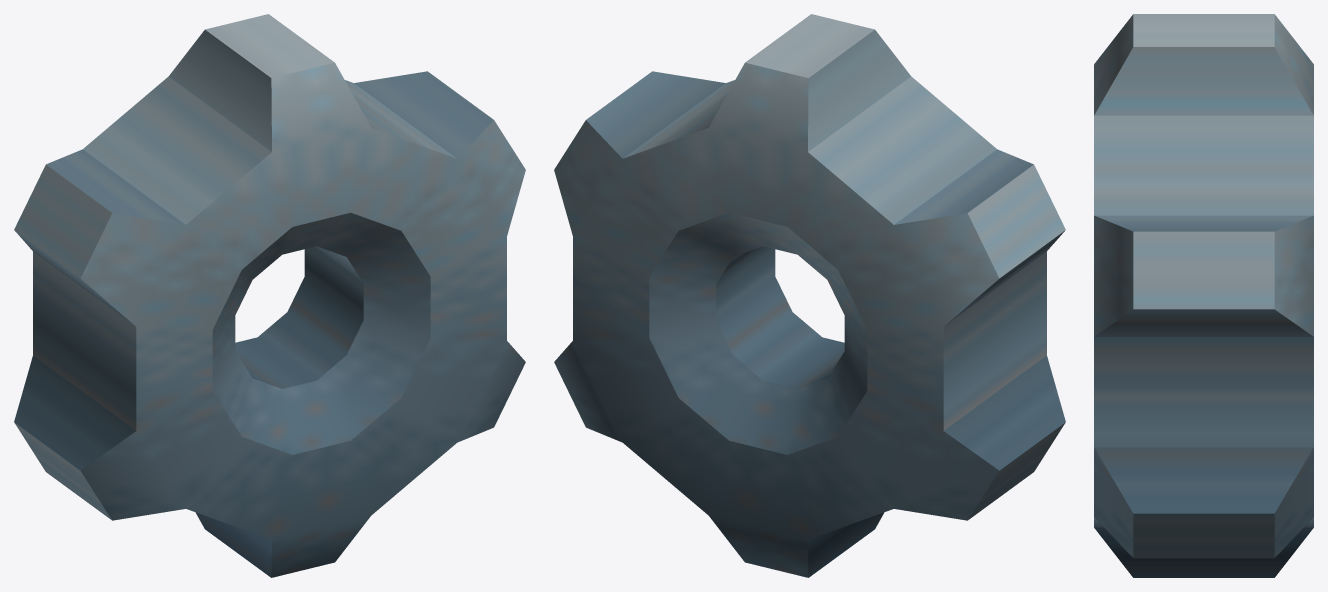
Rendered from Parts_Cog.gltf.
3 views of the same model, side by side, from view 1: azimuth 30°, elevation 25°; view 2: azimuth 150°, elevation 25°; view 3: azimuth 270°, elevation 25° (orthographic). The views are drawn at different scales.
Parts seen in each view (by area): view 1: Parts_Cog; view 2: Parts_Cog; view 3: Parts_Cog.
Part boxes in pixels (box(x1,y1,x2,y2)): Parts_Cog: box(14, 14, 525, 577); Parts_Cog: box(554, 14, 1065, 577); Parts_Cog: box(1094, 14, 1313, 577).
Bounding box in the file's own units: 0.3731 × 0.4 × 0.15.
1 material, 1 textured.
